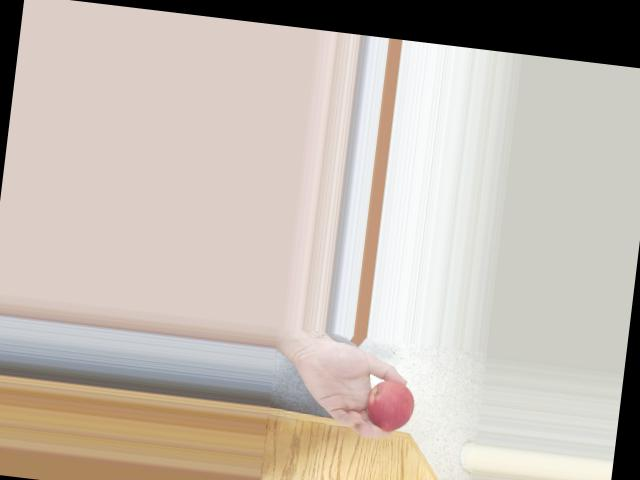apple: (357, 372, 418, 434)
